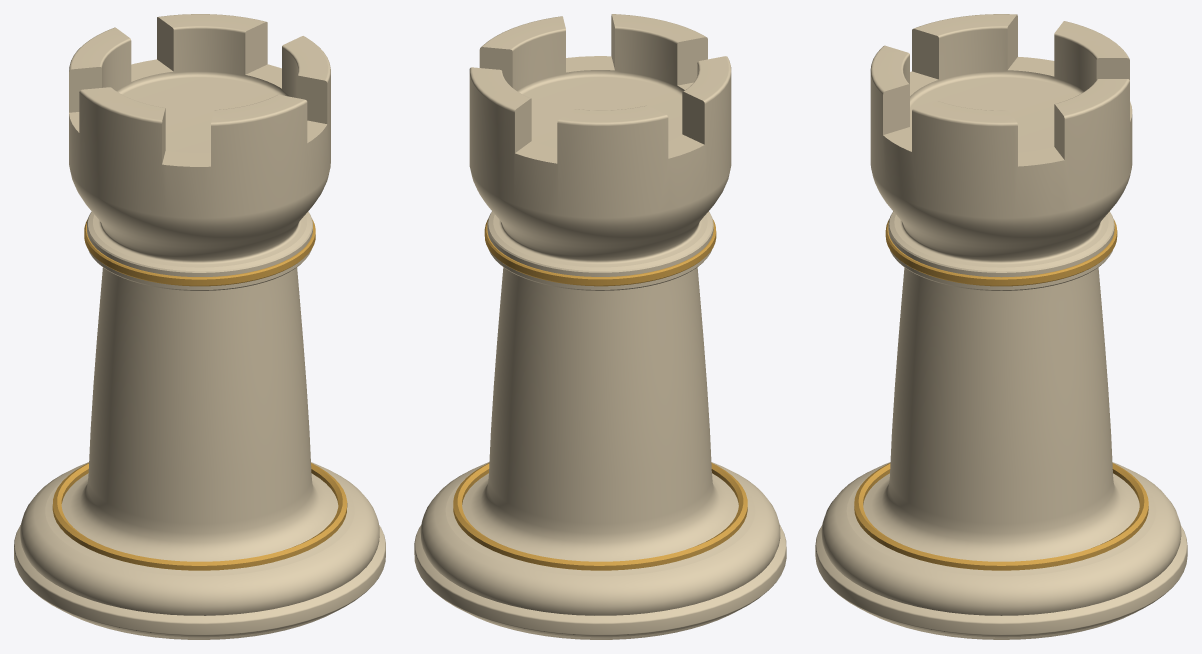
Rendered from rook.obj.
3 views of the same model, side by side, from view 1: azimuth 30°, elevation 25°; view 2: azimuth 150°, elevation 25°; view 3: azimuth 270°, elevation 25° (orthographic).
Visible parts, largest first — view 1: rook; view 2: rook; view 3: rook.
Part boxes in pixels (box(x1,y1,x2,y2)): rook: box(14, 14, 385, 639); rook: box(414, 14, 786, 639); rook: box(815, 14, 1187, 639).
Size of the model in its own units: 0.5 by 0.74 by 0.5.
